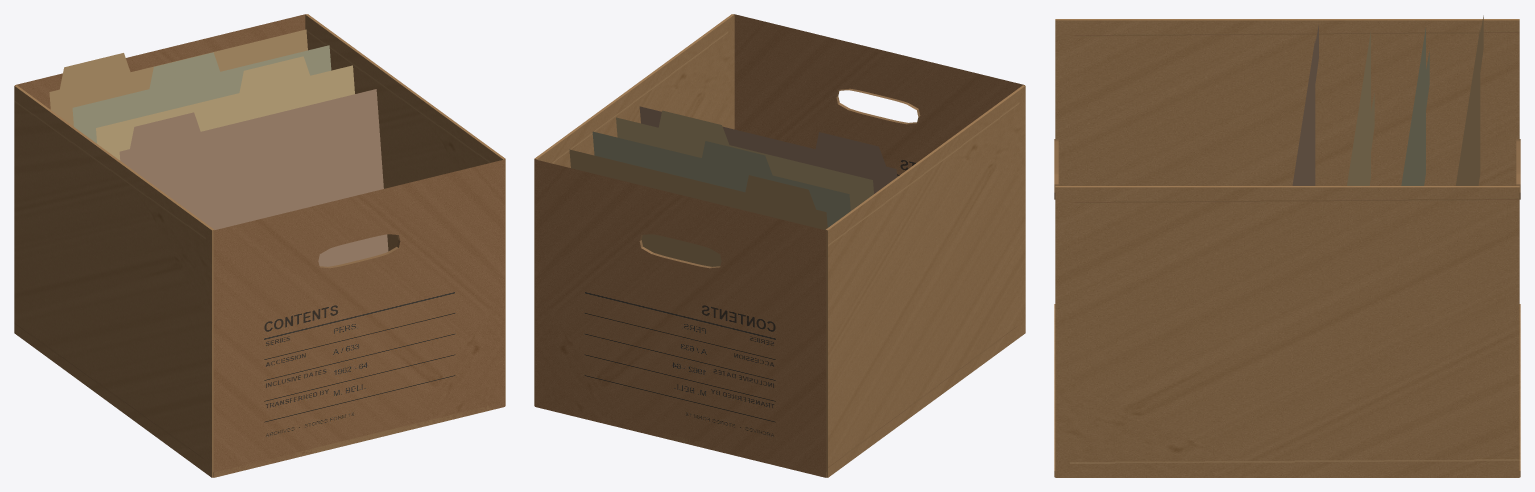
The model's file is record_case_2.gltf.
The picture shows the model from 3 angles, left to right: view 1: azimuth 30°, elevation 25°; view 2: azimuth 150°, elevation 25°; view 3: azimuth 270°, elevation 25°; orthographic projection. The views are drawn at different scales.
Visible parts, largest first — view 1: record_case_2; view 2: record_case_2; view 3: record_case_2.
Boxes of the visible parts, <box> form: record_case_2: <box>14,14,505,477</box>; record_case_2: <box>534,14,1025,477</box>; record_case_2: <box>1054,15,1520,477</box>.
Bounding box in the file's own units: 0.344 × 0.3019 × 0.403.
Materials: 7 (2 with a texture image).
